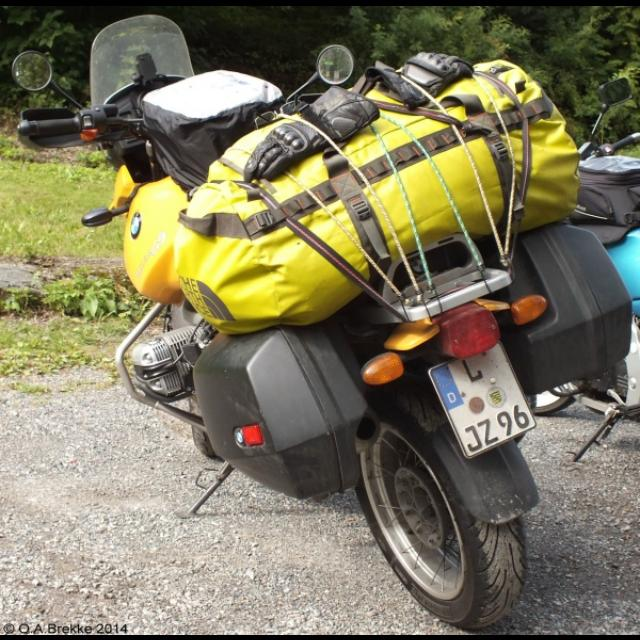d_license_plate: (428, 339, 536, 456)
